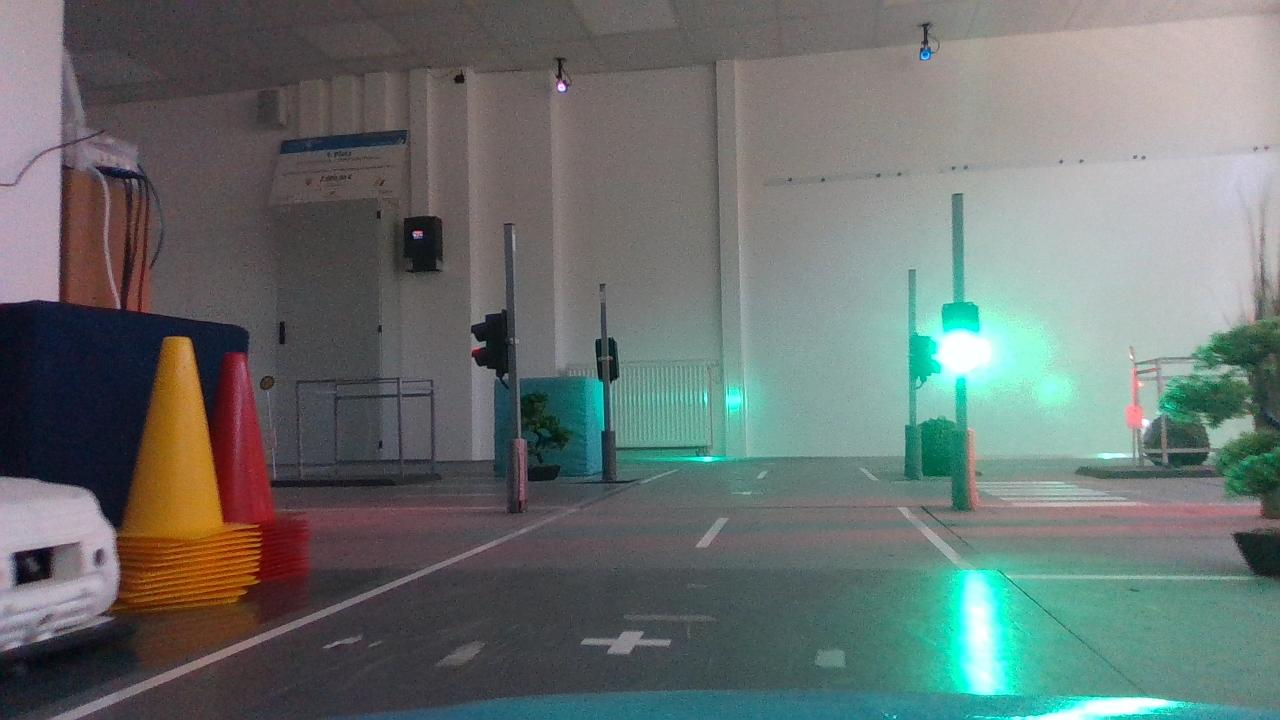traffic_light_green: (929, 284, 997, 385)
